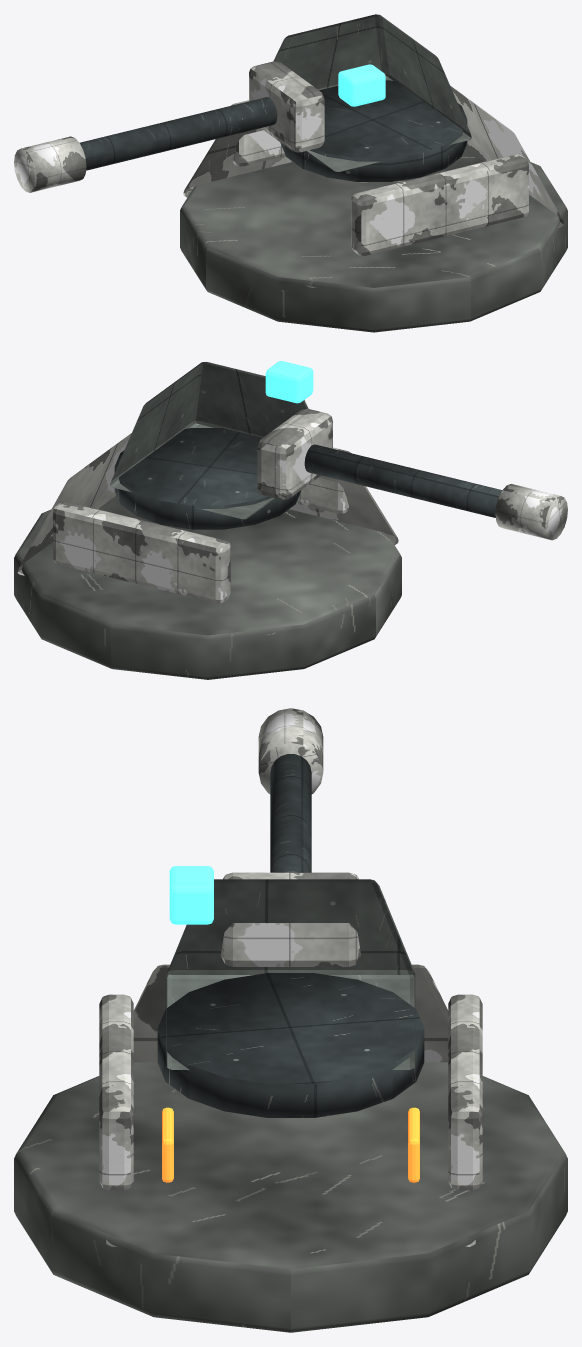
The model's file is anti_tank_turret.glb.
3 views of the same model, one above another, from view 1: azimuth 30°, elevation 25°; view 2: azimuth 150°, elevation 25°; view 3: azimuth 270°, elevation 25° (orthographic). The views are drawn at different scales.
Visible parts, largest first — view 1: anti_tank_turret_body_concrete_dark, anti_tank_turret_turret_armor_dark, anti_tank_turret_body_team_accent, anti_tank_turret_turret_factory_metal, anti_tank_turret_body_team_primary, anti_tank_turret_turret_team_primary, anti_tank_turret_turret_team_accent, anti_tank_turret_turret_glass_emissive; view 2: anti_tank_turret_body_concrete_dark, anti_tank_turret_turret_armor_dark, anti_tank_turret_body_team_accent, anti_tank_turret_turret_factory_metal, anti_tank_turret_body_team_primary, anti_tank_turret_turret_team_primary, anti_tank_turret_turret_team_accent, anti_tank_turret_turret_glass_emissive; view 3: anti_tank_turret_body_concrete_dark, anti_tank_turret_turret_armor_dark, anti_tank_turret_turret_factory_metal, anti_tank_turret_body_team_accent, anti_tank_turret_turret_team_primary, anti_tank_turret_body_team_primary, anti_tank_turret_turret_team_accent, anti_tank_turret_turret_glass_emissive, anti_tank_turret_body_warning_emissive.
Boxes of the visible parts, left/top/right/bottom form: anti_tank_turret_body_concrete_dark: left=180, top=148, right=567, bottom=332; anti_tank_turret_turret_armor_dark: left=80, top=80, right=467, bottom=181; anti_tank_turret_body_team_accent: left=230, top=100, right=528, bottom=255; anti_tank_turret_turret_factory_metal: left=273, top=14, right=471, bottom=171; anti_tank_turret_body_team_primary: left=183, top=85, right=564, bottom=287; anti_tank_turret_turret_team_primary: left=249, top=61, right=324, bottom=152; anti_tank_turret_turret_team_accent: left=14, top=136, right=86, bottom=192; anti_tank_turret_turret_glass_emissive: left=338, top=64, right=385, bottom=106; anti_tank_turret_body_concrete_dark: left=14, top=495, right=401, bottom=679; anti_tank_turret_turret_armor_dark: left=114, top=428, right=502, bottom=529; anti_tank_turret_body_team_accent: left=53, top=447, right=351, bottom=603; anti_tank_turret_turret_factory_metal: left=110, top=362, right=308, bottom=519; anti_tank_turret_body_team_primary: left=17, top=433, right=398, bottom=635; anti_tank_turret_turret_team_primary: left=257, top=409, right=332, bottom=499; anti_tank_turret_turret_team_accent: left=495, top=484, right=567, bottom=540; anti_tank_turret_turret_glass_emissive: left=265, top=361, right=313, bottom=403; anti_tank_turret_body_concrete_dark: left=14, top=1062, right=567, bottom=1332; anti_tank_turret_turret_armor_dark: left=157, top=754, right=424, bottom=1117; anti_tank_turret_turret_factory_metal: left=166, top=879, right=415, bottom=1069; anti_tank_turret_body_team_accent: left=99, top=994, right=482, bottom=1190; anti_tank_turret_turret_team_primary: left=221, top=872, right=360, bottom=966; anti_tank_turret_body_team_primary: left=106, top=964, right=475, bottom=1246; anti_tank_turret_turret_team_accent: left=258, top=708, right=323, bottom=793; anti_tank_turret_turret_glass_emissive: left=169, top=866, right=213, bottom=924; anti_tank_turret_body_warning_emissive: left=162, top=1107, right=419, bottom=1182.
Bounding box in the file's own units: 4.61 × 1.86 × 3.
Materials: 7 (5 with a texture image).
